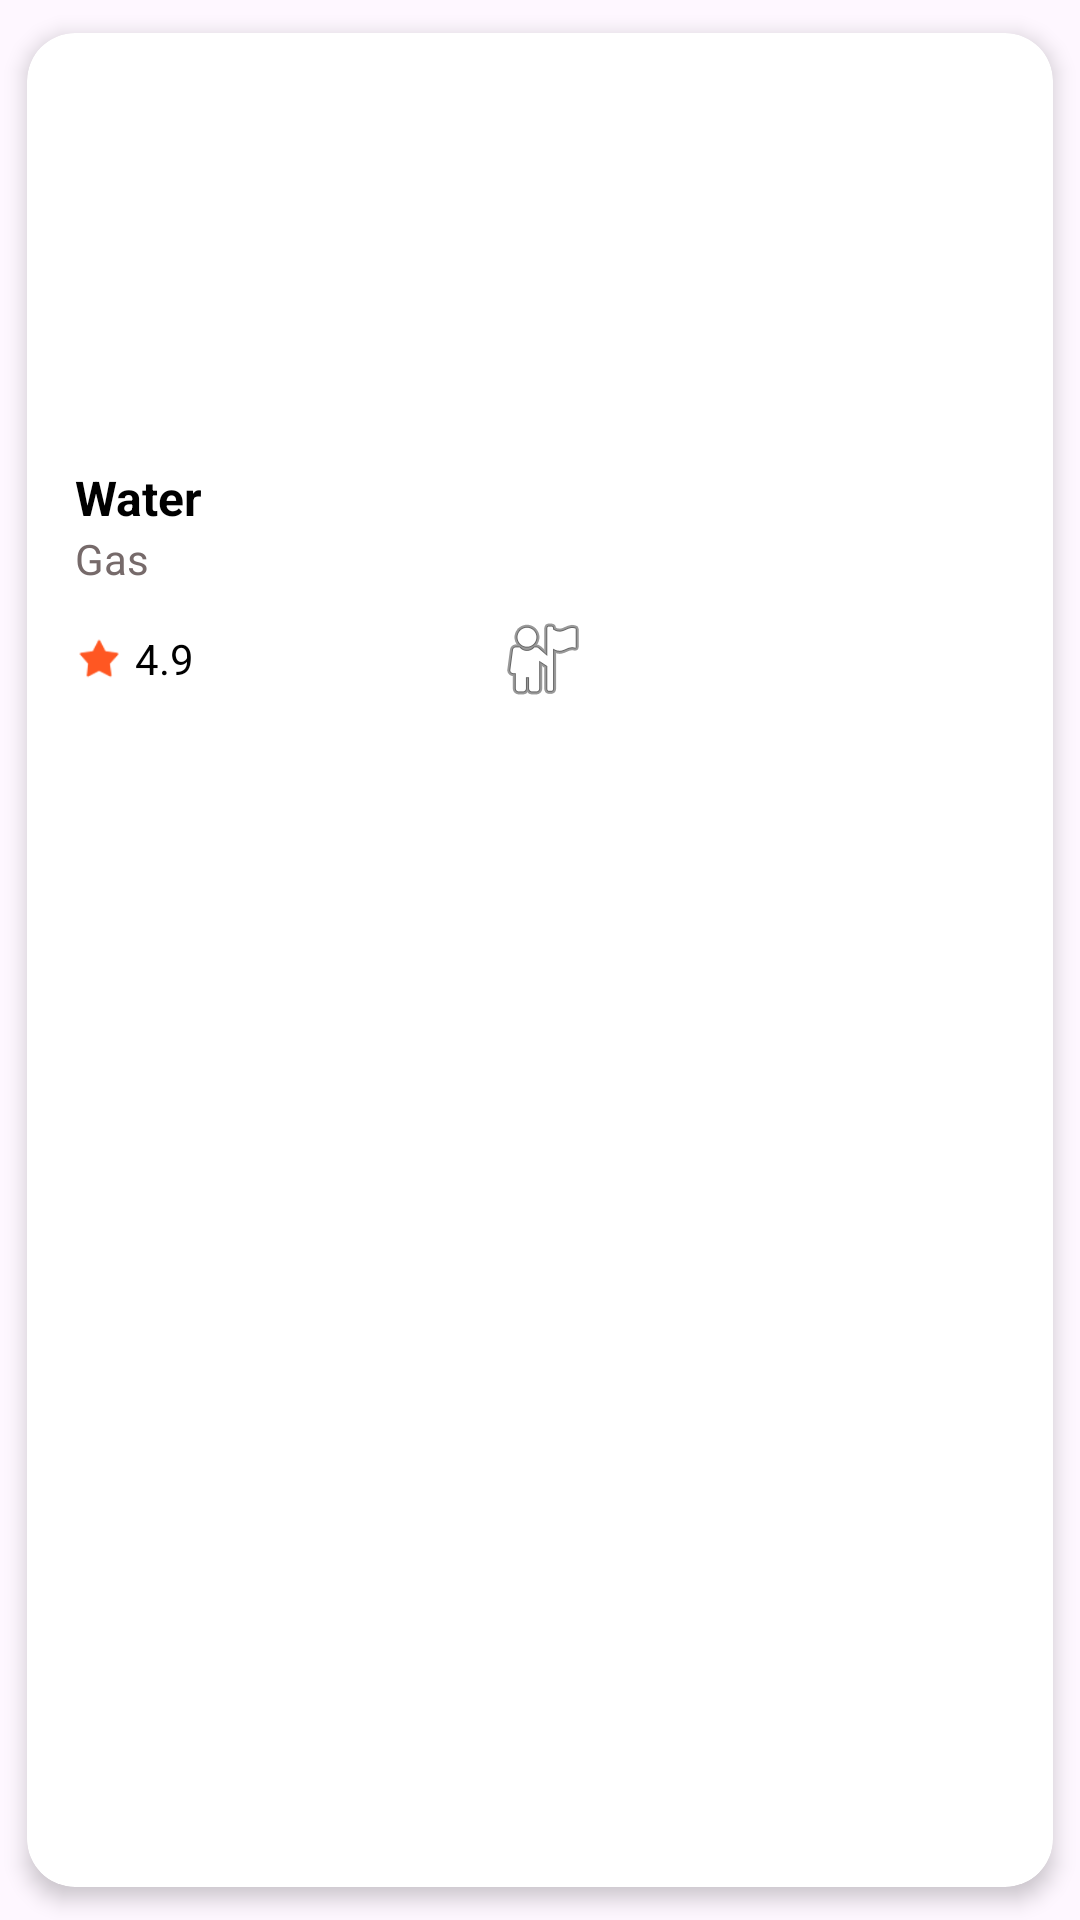

Icon click points for this 1080×1920 phone screenshot, format (x=x, y=y):
myplaces: (x=543, y=659)
star on: (x=99, y=658)
